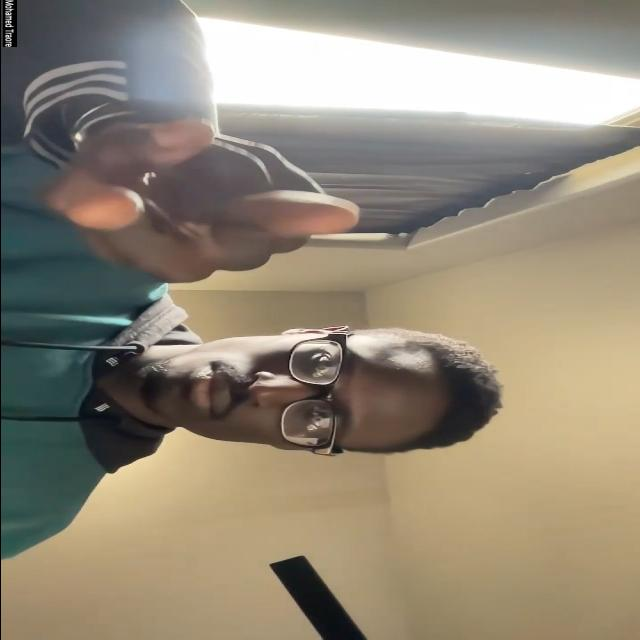Scissors: (39, 128, 362, 284)
